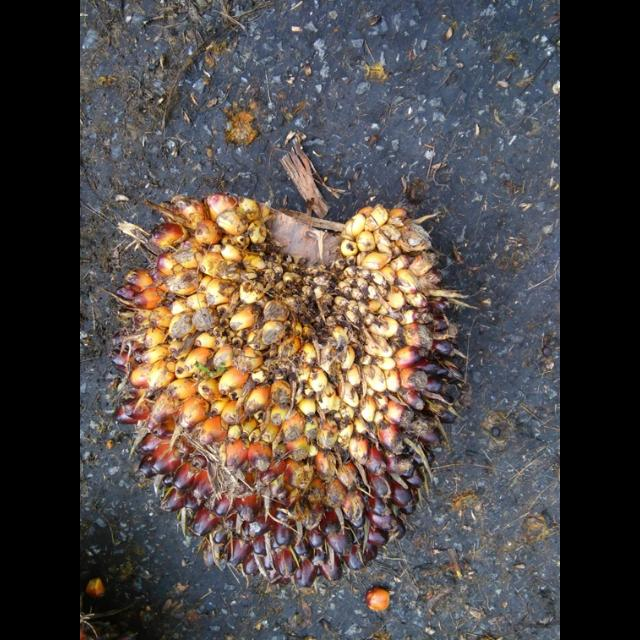Unripe: (112, 190, 464, 591)
